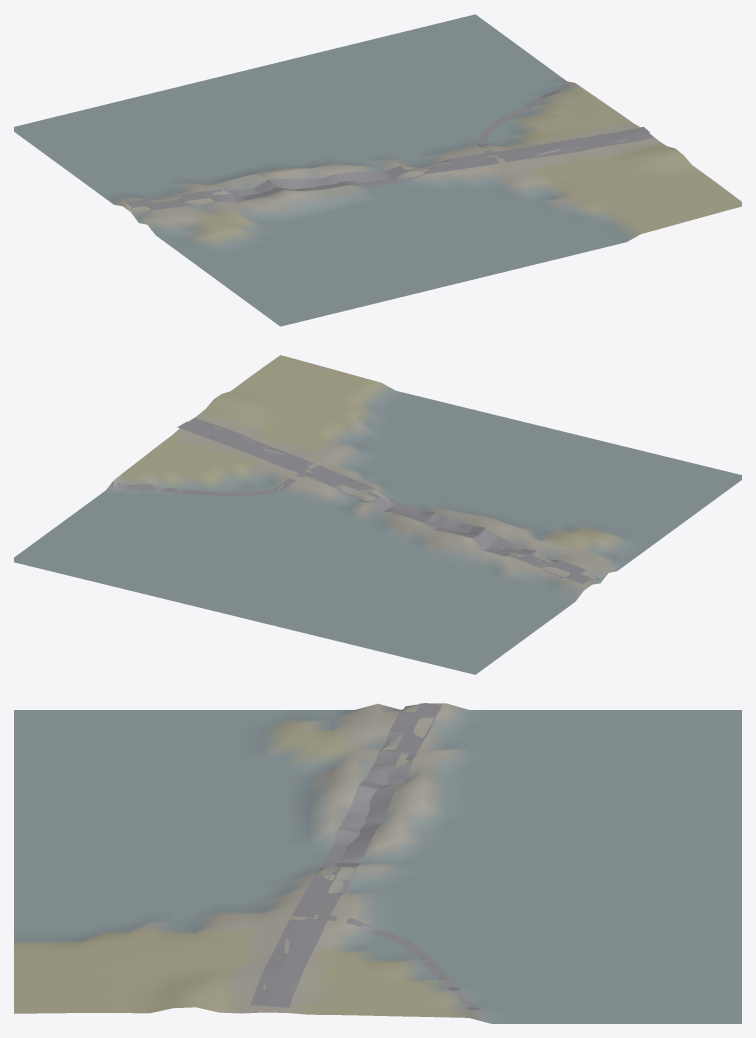
3 views of the same model, one above another, from view 1: azimuth 30°, elevation 25°; view 2: azimuth 150°, elevation 25°; view 3: azimuth 270°, elevation 25° (orthographic). The views are drawn at different scales.
Visible parts, largest first — view 1: prim0, prim1; view 2: prim0, prim1; view 3: prim0, prim1.
Part boxes in pixels (left/top/right/bottom): prim0: left=14, top=14, right=741, bottom=326; prim1: left=126, top=82, right=653, bottom=216; prim0: left=14, top=355, right=741, bottom=674; prim1: left=111, top=418, right=600, bottom=583; prim0: left=14, top=703, right=741, bottom=1023; prim1: left=250, top=703, right=484, bottom=1013.
Size of the model in its own units: 518 by 17.88 by 512.
